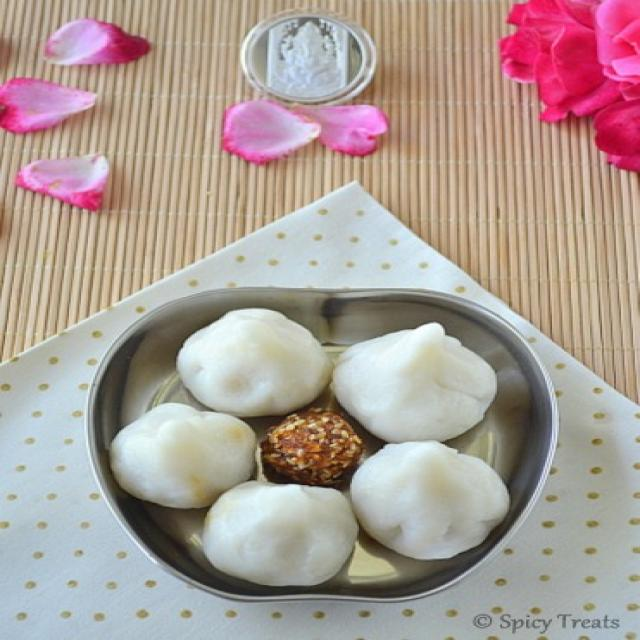poorna kolukattai: (102, 265, 542, 602)
